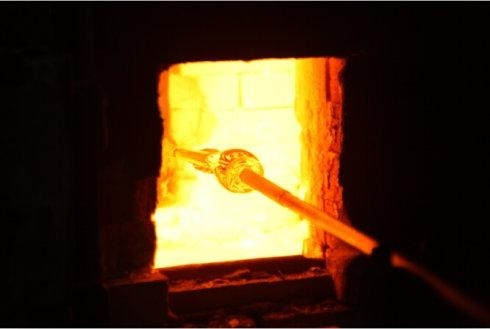fire: (148, 51, 368, 271)
